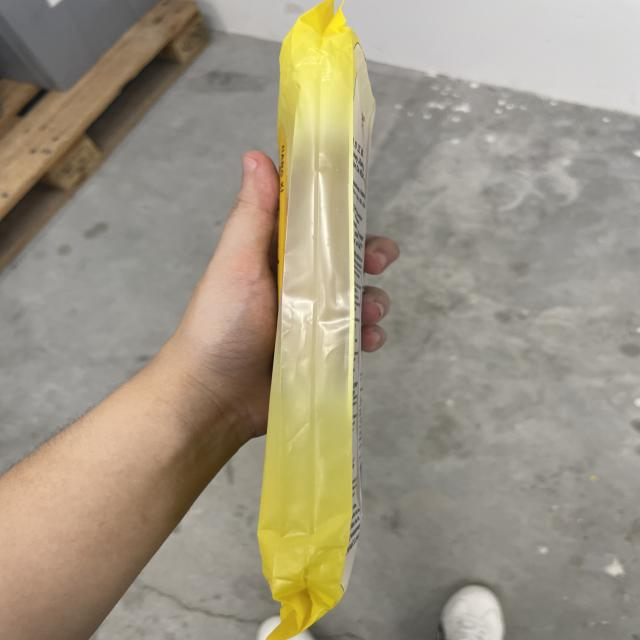object_name: (290, 26, 339, 626)
